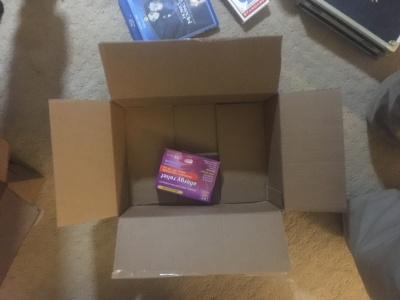innerbox: (111, 99, 285, 214)
outerbox: (56, 43, 348, 276)
product: (155, 146, 222, 205)
